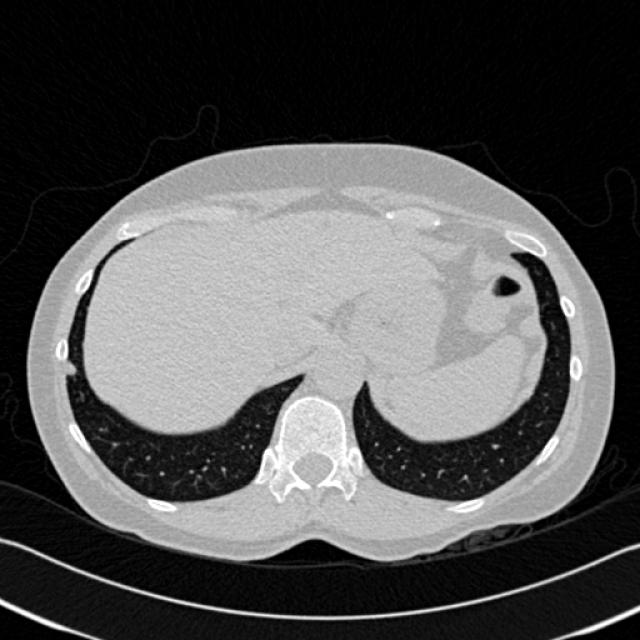nodule: (55, 354, 85, 384)
